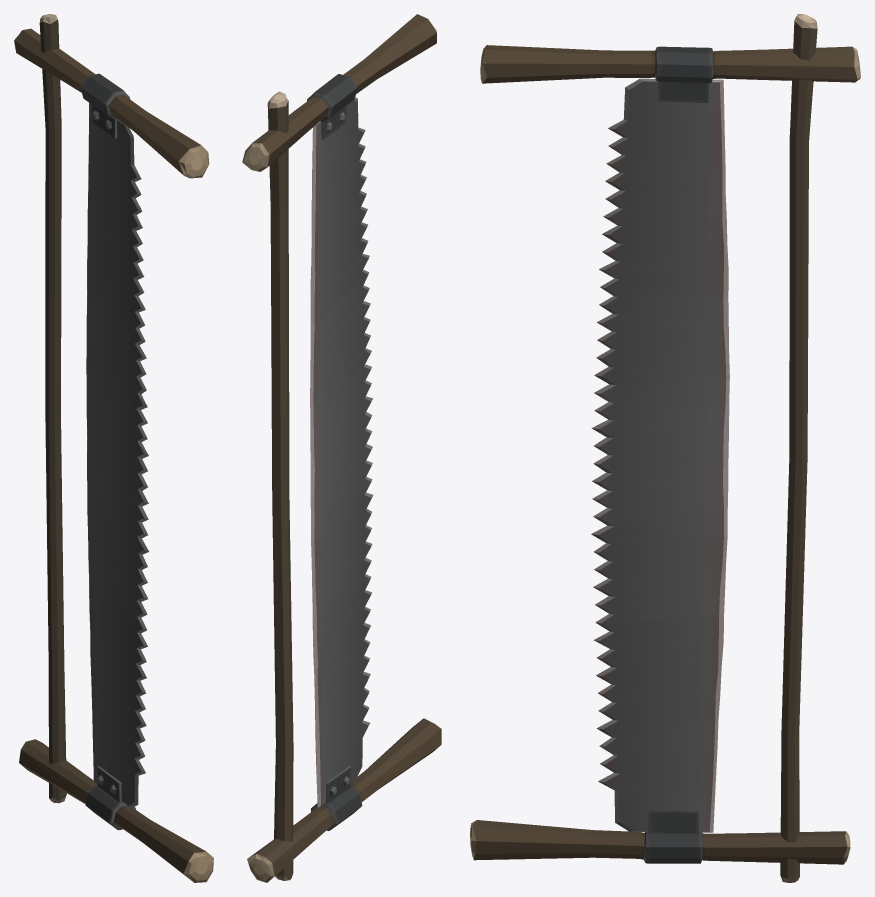
Rendered from bluntHeavyWoodSaw.glb.
The picture shows the model from 3 angles, left to right: view 1: azimuth 30°, elevation 25°; view 2: azimuth 150°, elevation 25°; view 3: azimuth 270°, elevation 25°; orthographic projection. The views are drawn at different scales.
Visible parts, largest first — view 1: bluntHeavyWoodSaw; view 2: bluntHeavyWoodSaw; view 3: bluntHeavyWoodSaw.
Boxes of the visible parts, x1,y1,x2,y2 form: bluntHeavyWoodSaw: (14,14,213,882); bluntHeavyWoodSaw: (242,14,441,882); bluntHeavyWoodSaw: (470,14,860,882).
Size of the model in its own units: 0.0507 by 1.28 by 0.5223.
